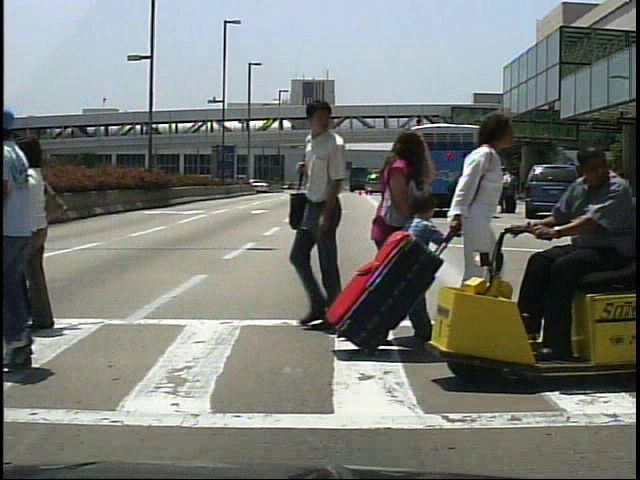person: (277, 101, 390, 348), (526, 145, 636, 366), (444, 104, 528, 331), (366, 123, 433, 354), (11, 132, 75, 332), (402, 185, 447, 318), (582, 162, 602, 218), (496, 164, 515, 214), (499, 166, 516, 219)
